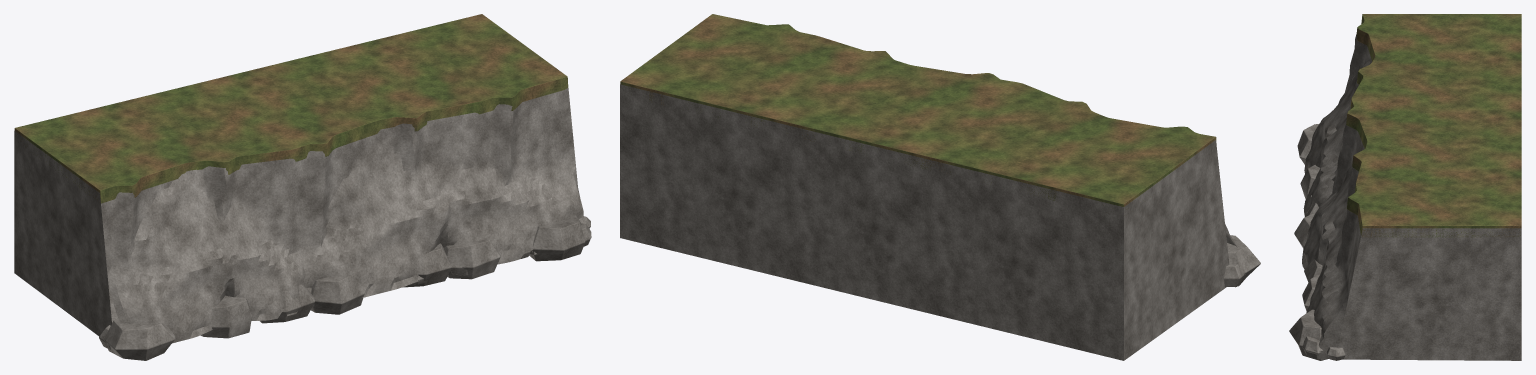
File: cliff_rocks.glb
The picture shows the model from 3 angles, left to right: view 1: azimuth 30°, elevation 25°; view 2: azimuth 150°, elevation 25°; view 3: azimuth 270°, elevation 25°; orthographic projection. The views are drawn at different scales.
Parts seen in each view (by area): view 1: Continuous angular escarpment bedrock, Continuous soil and grass cliff crest; view 2: Continuous angular escarpment bedrock, Continuous soil and grass cliff crest; view 3: Continuous angular escarpment bedrock, Continuous soil and grass cliff crest.
Part boxes in pixels (x1,y1,x2,y2): Continuous angular escarpment bedrock: (14, 88, 591, 360); Continuous soil and grass cliff crest: (14, 14, 568, 203); Continuous angular escarpment bedrock: (620, 84, 1260, 360); Continuous soil and grass cliff crest: (620, 14, 1216, 209); Continuous angular escarpment bedrock: (1289, 34, 1521, 360); Continuous soil and grass cliff crest: (1346, 14, 1521, 237).
Size of the model in its own units: 12.57 by 3.73 by 5.56.
Materials: 2 (2 with a texture image).
